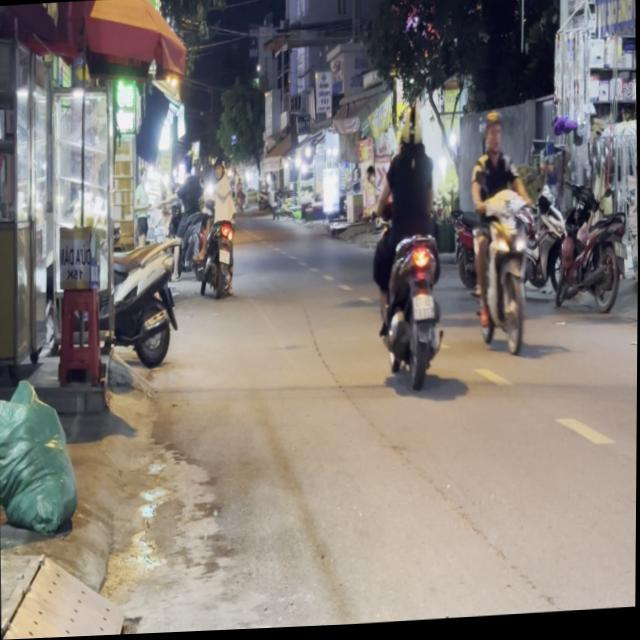helmet: (399, 108, 422, 151), (484, 115, 505, 161)
licenseplate: (370, 105, 449, 393), (468, 112, 538, 361)
nohelmet: (414, 296, 435, 322)
